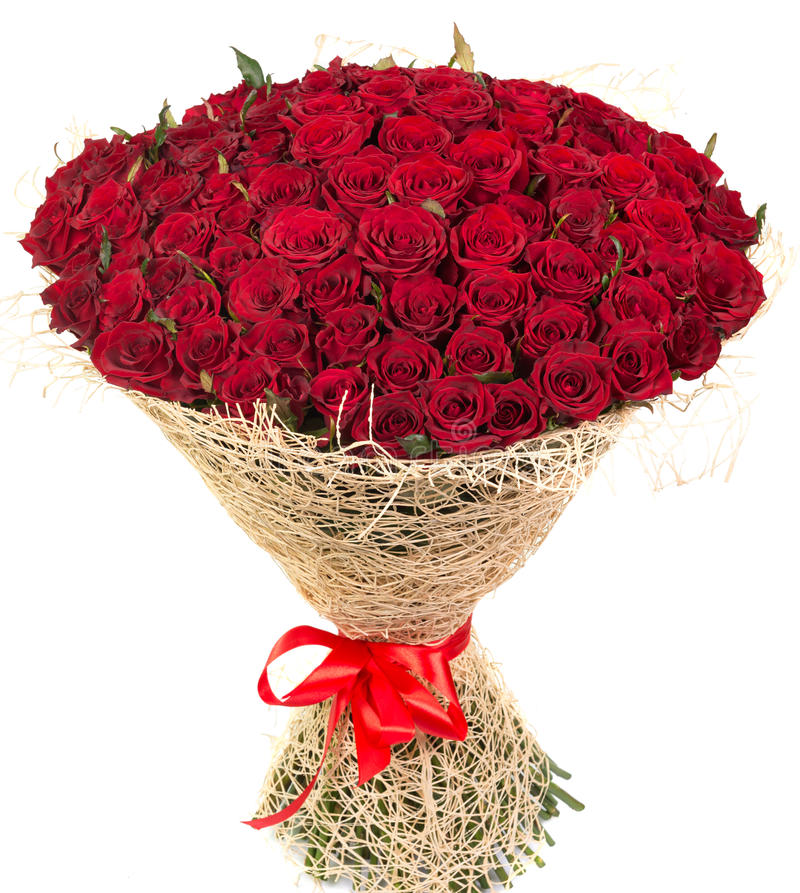RedRose: (359, 202, 453, 280), (689, 251, 762, 336), (96, 316, 174, 395), (418, 376, 494, 457), (529, 343, 606, 421), (256, 208, 361, 260), (43, 258, 102, 349), (601, 325, 668, 403), (589, 265, 672, 325), (173, 309, 238, 381), (218, 262, 302, 317), (438, 321, 515, 379), (512, 300, 591, 356), (356, 393, 419, 463), (456, 131, 527, 193), (17, 198, 83, 264), (531, 241, 599, 305), (657, 132, 725, 194), (666, 301, 714, 388), (317, 297, 388, 355), (459, 263, 529, 321), (362, 334, 440, 386), (458, 206, 527, 262), (295, 101, 373, 150), (483, 379, 539, 447), (216, 361, 282, 418), (328, 142, 396, 197), (618, 197, 694, 245), (388, 277, 454, 330), (157, 279, 221, 333), (295, 259, 364, 309), (650, 230, 718, 280), (103, 260, 153, 326), (247, 311, 310, 363), (696, 182, 751, 241), (525, 141, 599, 184), (306, 360, 356, 420), (547, 186, 616, 226), (379, 117, 447, 157), (251, 168, 322, 206), (77, 178, 132, 227), (603, 150, 659, 198), (298, 58, 365, 98), (399, 159, 464, 200), (99, 198, 143, 257), (599, 107, 660, 149), (563, 89, 622, 132), (155, 213, 205, 261), (426, 82, 486, 121), (238, 124, 291, 167), (597, 224, 652, 265), (209, 232, 256, 277), (362, 70, 417, 108), (498, 74, 569, 103), (503, 189, 545, 235), (208, 197, 260, 231), (199, 175, 250, 209), (149, 256, 189, 299), (179, 138, 240, 166), (86, 142, 127, 175), (135, 150, 169, 189), (145, 178, 187, 209), (502, 105, 550, 132), (248, 94, 291, 123), (199, 78, 241, 107), (50, 158, 87, 188), (183, 114, 236, 133), (429, 62, 482, 80), (128, 128, 174, 145), (252, 81, 295, 92)
